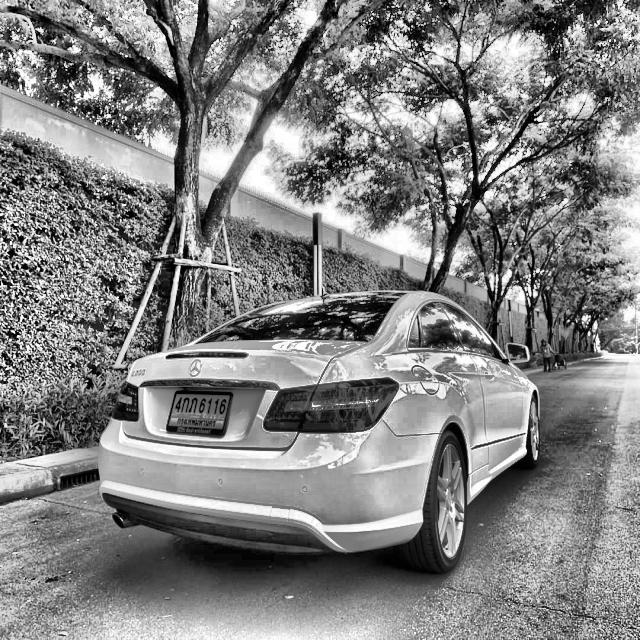license-plate: (168, 388, 233, 439)
